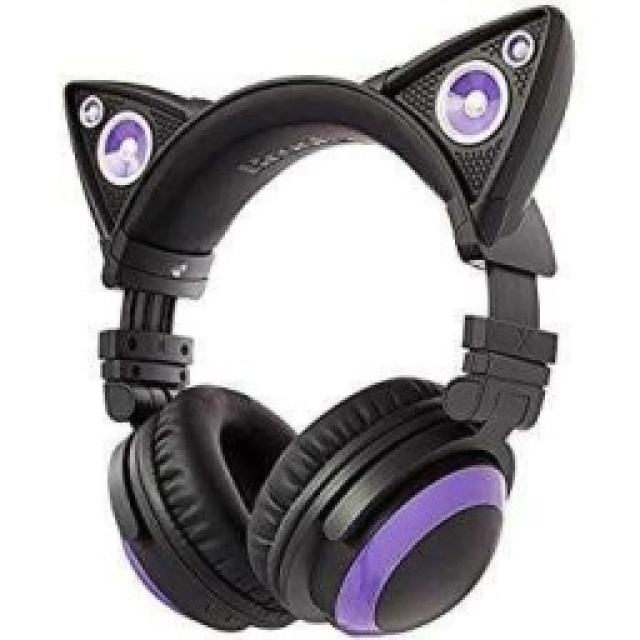headphones: (60, 3, 575, 635)
